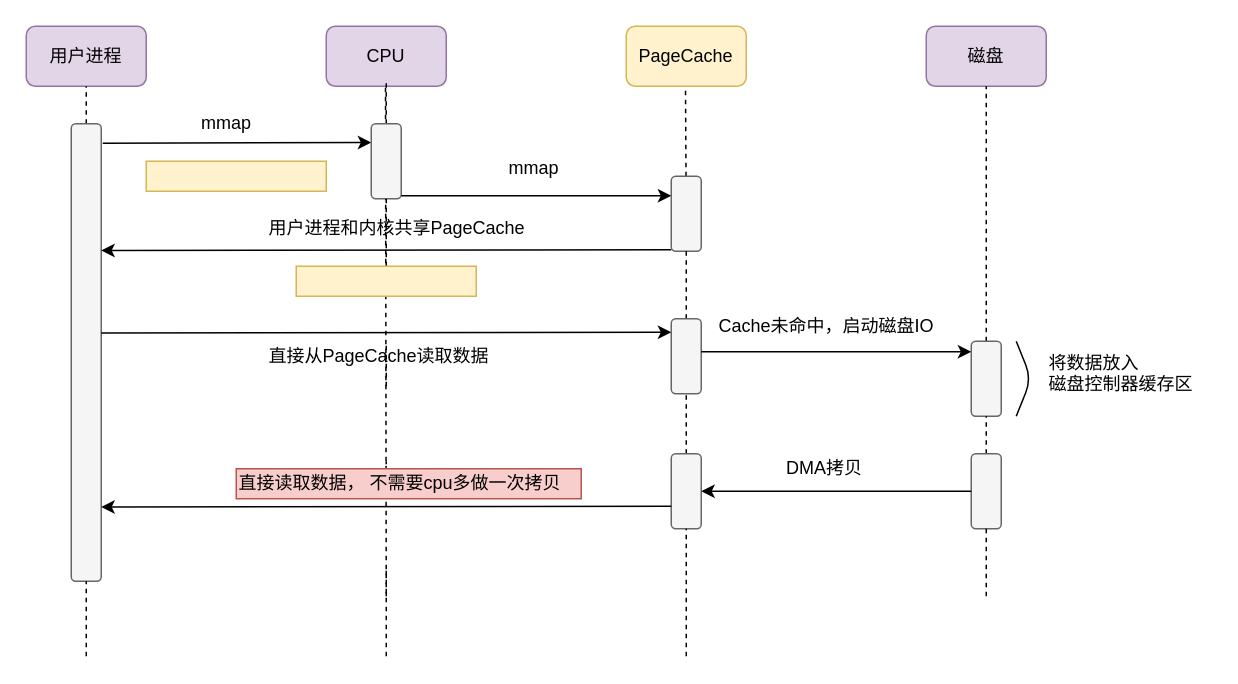
This 1238x684 diagram has some shape labels left out. Here are the shapes that lost their labels. From the top down, the centre of each, then its label:
point 235,175: 用户态切换为内核态
point 385,280: 内核态切换为用户态
